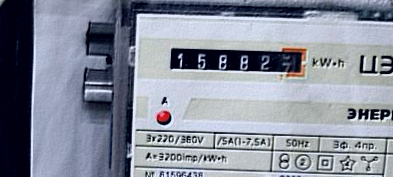1: (175, 52, 185, 68)
2: (259, 53, 270, 71)
5: (196, 52, 207, 69)
7: (281, 61, 290, 72)
8: (238, 54, 249, 71), (217, 54, 228, 70)
screen: (163, 39, 312, 83)
